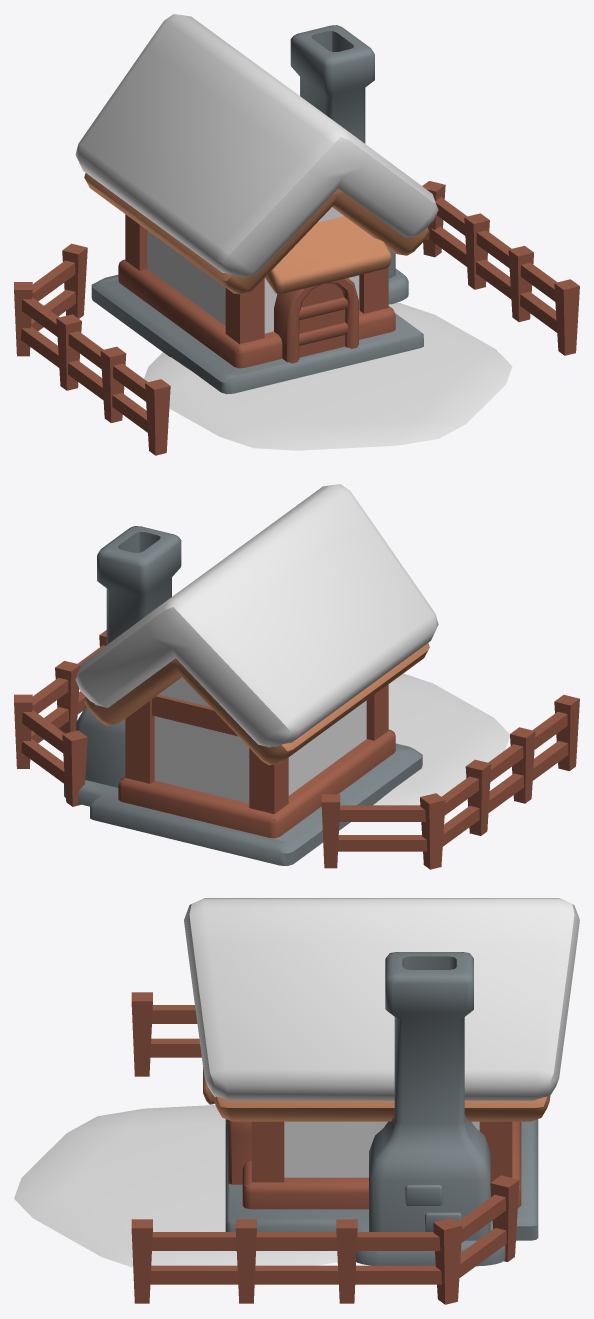
Rendered from house_snow.gltf.glb.
3 renders of one model, top to bottom at view 1: azimuth 30°, elevation 25°; view 2: azimuth 150°, elevation 25°; view 3: azimuth 270°, elevation 25°, orthographic. The views are drawn at different scales.
Parts seen in each view (by area): view 1: house_snow; view 2: house_snow; view 3: house_snow.
Boxes of the visible parts, bbox=[...] form: house_snow: bbox=[14, 14, 579, 455]; house_snow: bbox=[14, 484, 579, 869]; house_snow: bbox=[14, 898, 579, 1304].
Bounding box in the file's own units: 1.69 × 0.9464 × 1.69.
